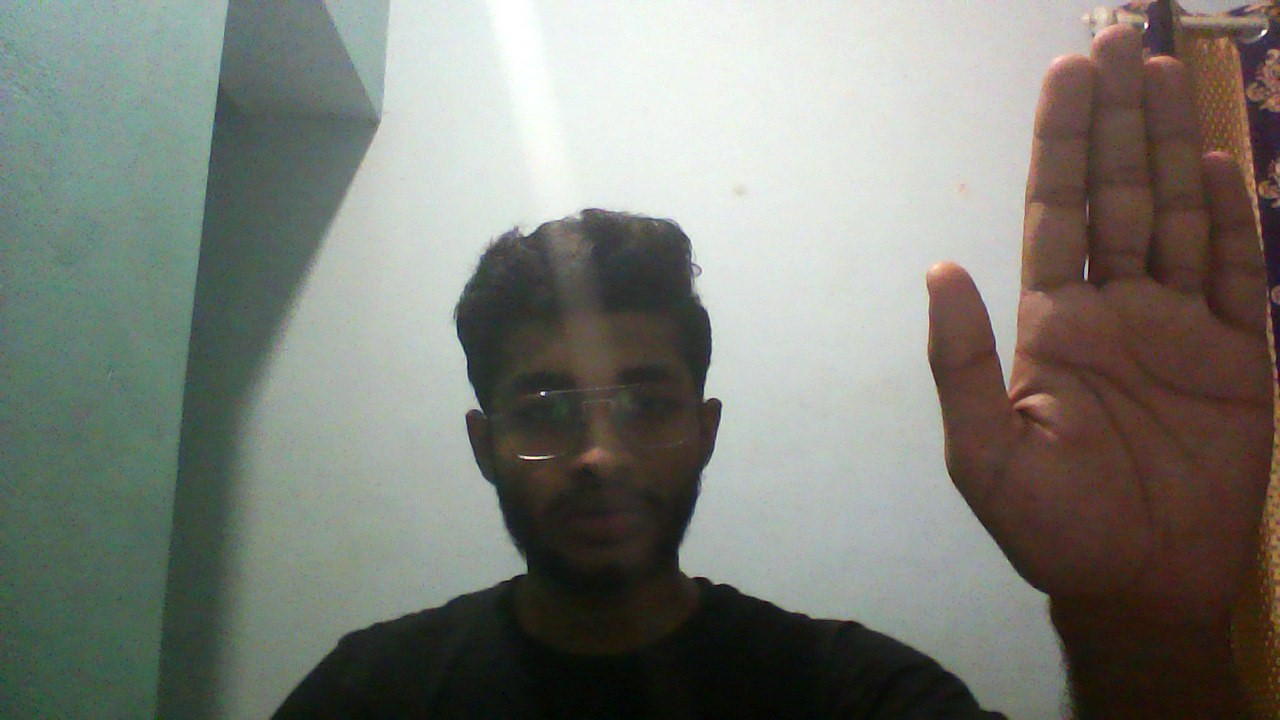Hello: (850, 12, 1280, 635)
